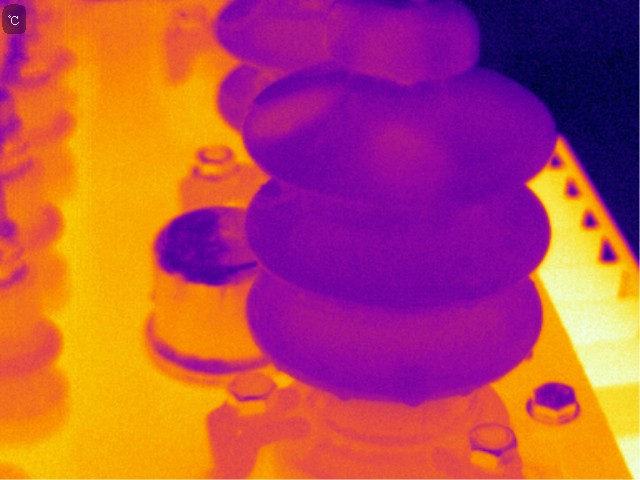Oil: (404, 392, 428, 410), (333, 386, 353, 404), (454, 384, 476, 400)
